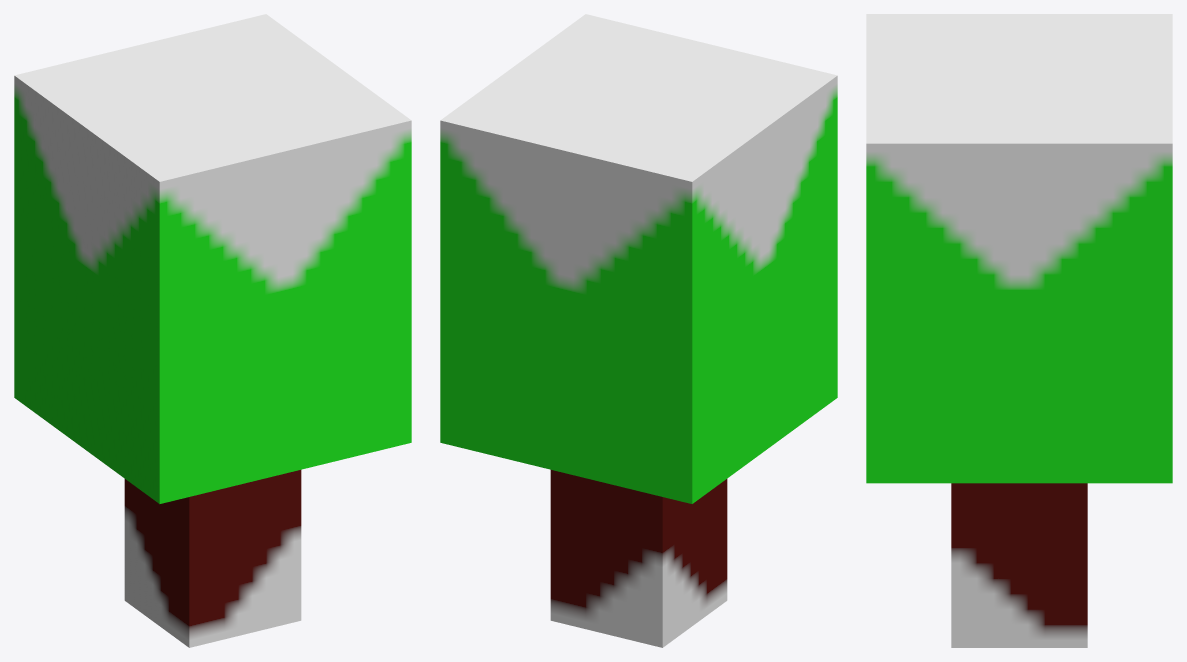
Rendered from Tree_6.fbx.
3 views of the same model, side by side, from view 1: azimuth 30°, elevation 25°; view 2: azimuth 150°, elevation 25°; view 3: azimuth 270°, elevation 25° (orthographic). The views are drawn at different scales.
Parts seen in each view (by area): view 1: Tree_6; view 2: Tree_6; view 3: Tree_6.
Part boxes in pixels (bbox=[...]): Tree_6: bbox=[14, 14, 411, 647]; Tree_6: bbox=[440, 14, 837, 647]; Tree_6: bbox=[866, 14, 1172, 647].
Size of the model in its own units: 18 by 35 by 18.
Materials: 1 (1 with a texture image).
